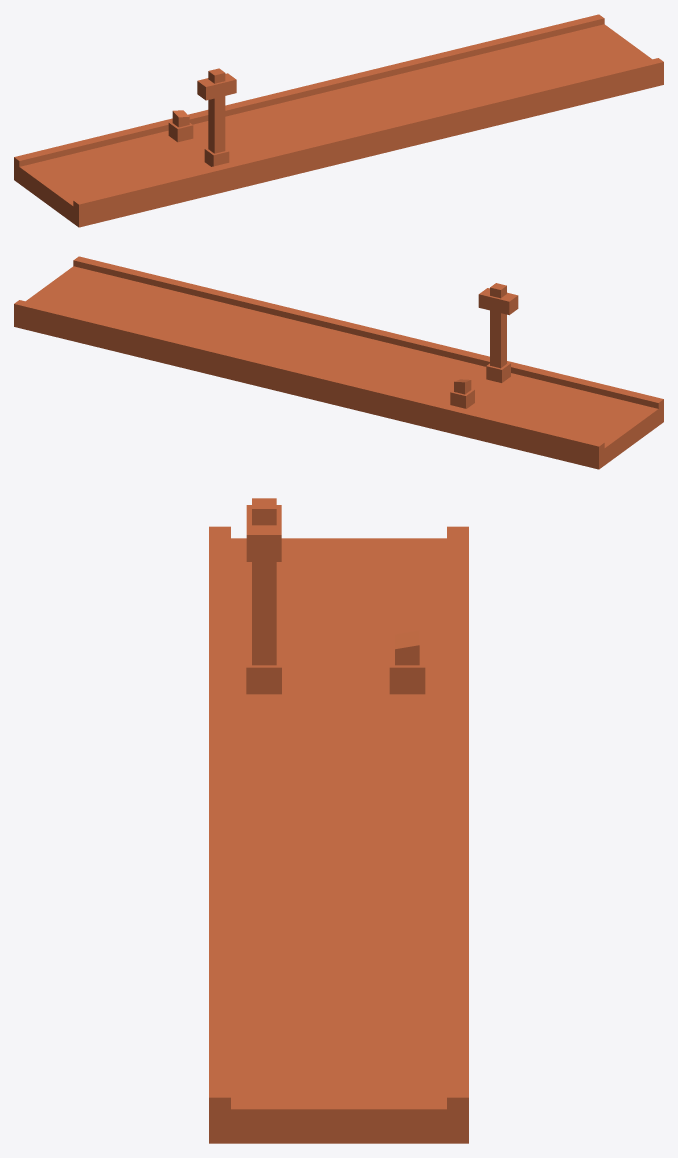
The model's file is Bridge-journey-test.FBX.
3 views of the same model, one above another, from view 1: azimuth 30°, elevation 25°; view 2: azimuth 150°, elevation 25°; view 3: azimuth 270°, elevation 25° (orthographic). The views are drawn at different scales.
Visible parts, largest first — view 1: Plane001, Box002, Box001; view 2: Plane001, Box002, Box001; view 3: Plane001, Box002, Box001.
Part boxes in pixels (x1,y1,x2,y2): Plane001: (14,14,663,227); Box002: (197,68,236,166); Box001: (168,110,193,142); Plane001: (14,256,663,469); Box002: (478,283,518,382); Box001: (450,379,474,408); Plane001: (209,526,468,1143); Box002: (246,498,281,694); Box001: (389,630,425,694).
Bounding box in the file's own units: 920 × 163 × 177.
